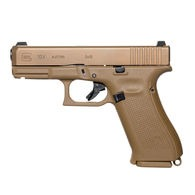gun: (8, 39, 186, 169)
